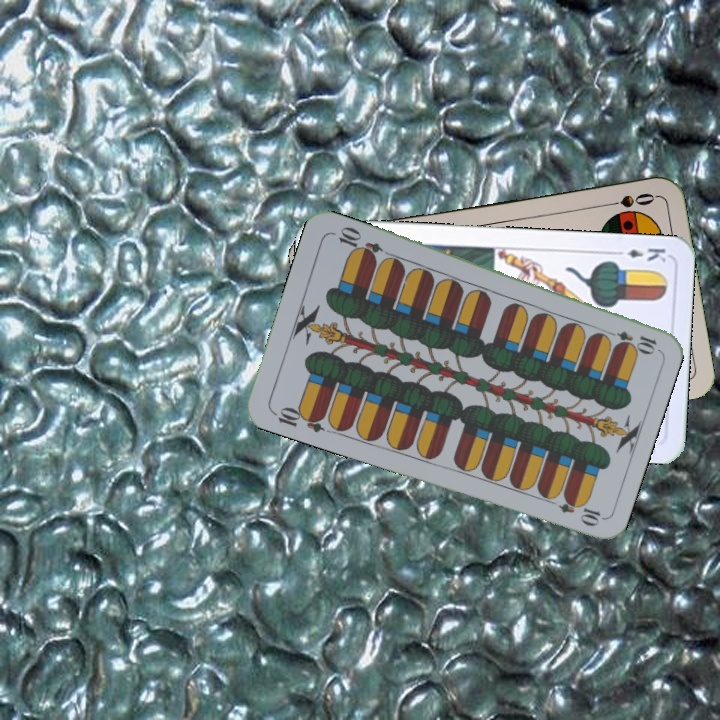E10: (269, 402, 328, 435), (600, 326, 659, 354)
EK: (610, 243, 669, 264)
SO: (599, 189, 658, 210)
